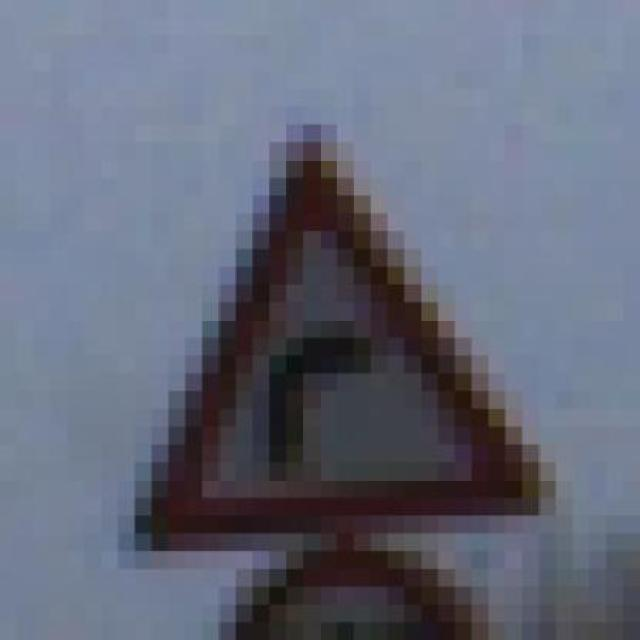Dangerous Rright Curve Ahead: (67, 124, 573, 551)
